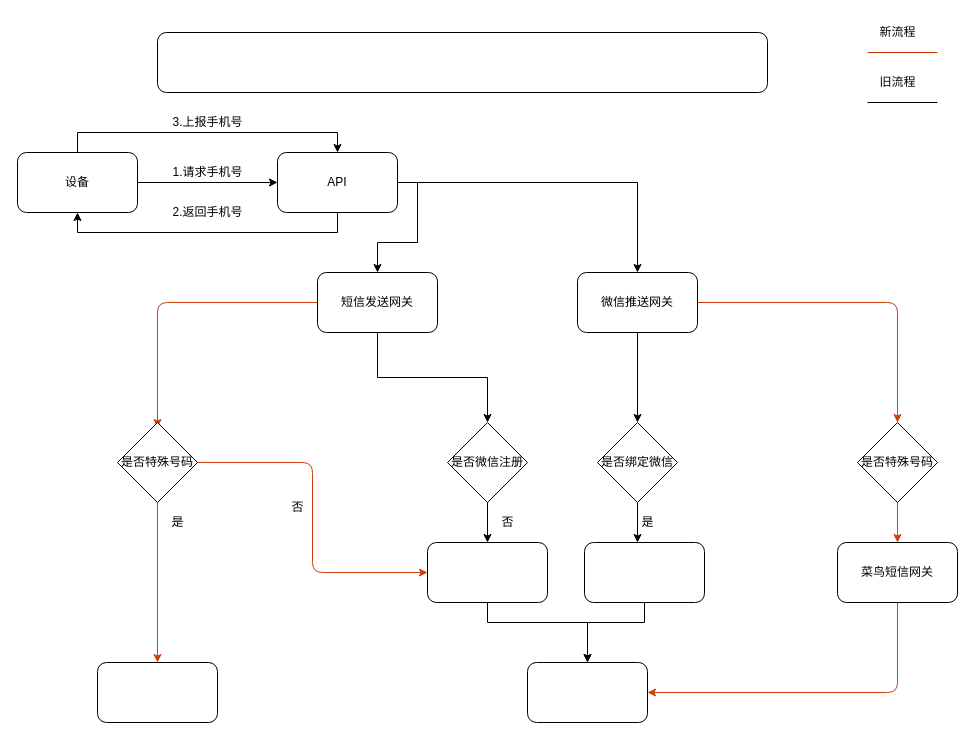
Some shapes in this 975 by 740 pixel diagram are drawn without their labels. Here are the shapes that lost their labels. From the top down, the centre of each, then its label:
[462,62]: 短信发送流程
[487,572]: 短信推送
[644,572]: 微信推送
[157,692]: 不发送短信
[587,692]: 用户终端
